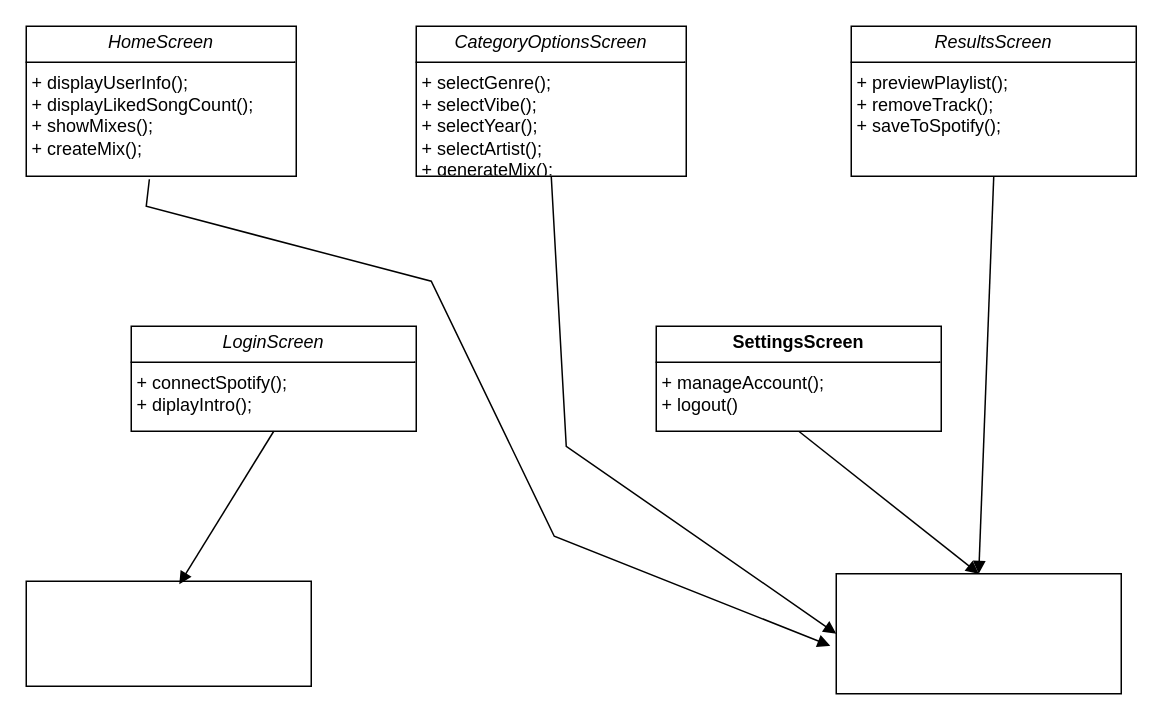
Some shapes in this 1163 by 720 pixel diagram are drawn without their labels. The box of each missing label's shape, as (x1, y1, x2, y2) in pixels:
API Service + getLikedSongs(); + generatePlaylist(); + savePlaylist();: (835, 572, 1121, 694)
AuthenticationService + authenticateUser(); + getAccessToken();: (25, 580, 311, 686)
